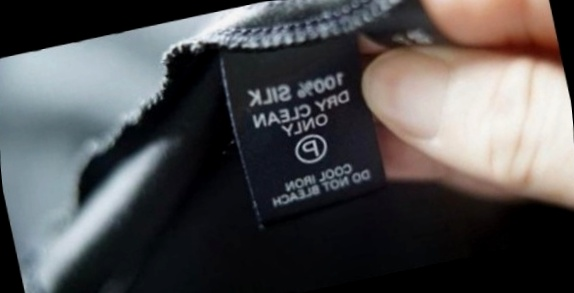dry_clean_any_solvent_except_trichloroethylene: (289, 128, 331, 168)
